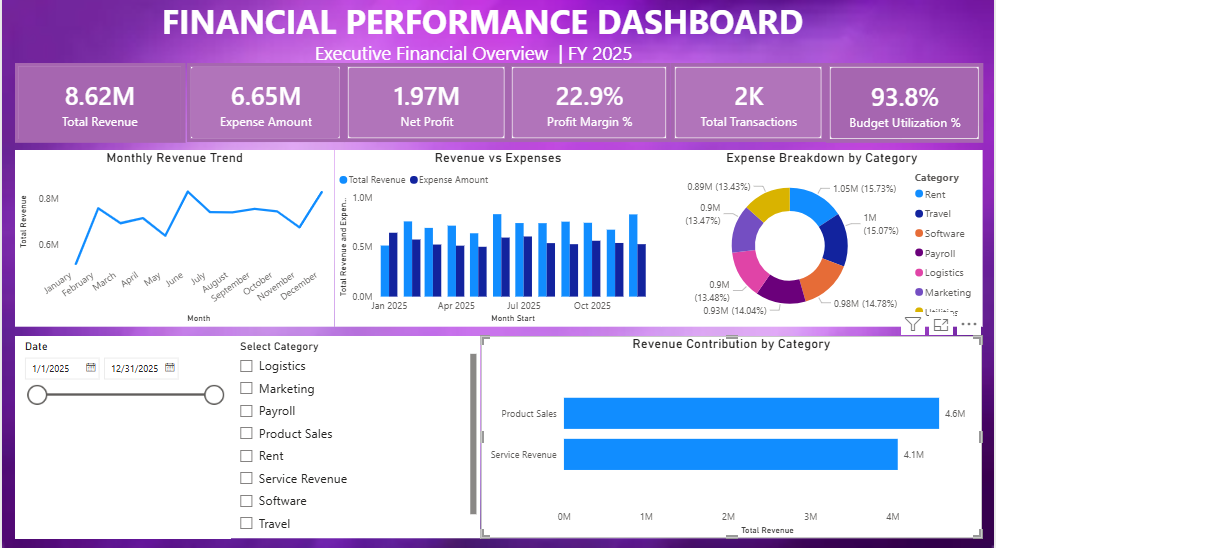

The page's visual inventory and layout, read from the dashboard file:
{"tool":"powerbi","page":{"name":"Page 1","canvas":[1280,720],"ordinal":0},"visuals":[{"type":"textbox","box":[198.2,0,839.9,73.9],"z":0},{"type":"cardVisual","fields":{"Data":["Category_Map.Total Revenue"]},"box":[17,89.3,219.7,103.5],"z":1000},{"type":"cardVisual","fields":{"Data":["Transactions.Expense Amount"]},"box":[238.1,89.3,202.7,102],"z":2000},{"type":"cardVisual","fields":{"Data":["Category_Map.Net Profit"]},"box":[440.8,89.3,212.6,102],"z":3000},{"type":"cardVisual","fields":{"Data":["Transactions.Profit Margin %"]},"box":[653.4,89.3,209.8,102],"z":4000},{"type":"cardVisual","fields":{"Data":["Category_Map.Total Transactions"]},"box":[863.1,89.3,199.8,102],"z":5000},{"type":"cardVisual","fields":{"Data":["Transactions.Revenue Budget Variance %"]},"box":[1063,89.3,202.7,103.5],"z":6000},{"type":"lineChart","title":"Monthly Revenue Trend","fields":{"Y":["Category_Map.Total Revenue"],"Category":["Calendar.Date.Variation.Date Hierarchy.Month"]},"box":[17,201.3,412.4,228.2],"z":7000},{"type":"clusteredColumnChart","title":"Revenue vs Expenses","fields":{"Y":["Category_Map.Total Revenue","Transactions.Expense Amount"],"Category":["Calendar.Month Start"]},"box":[429.4,201.3,420.9,228.2],"z":8000},{"type":"donutChart","title":"Expense Breakdown by Category","fields":{"Category":["Transactions.Category"],"Y":["Transactions.Expense Amount"]},"box":[850.4,201.3,415.3,228.2],"z":9000},{"type":"clusteredBarChart","title":"Revenue Contribution by Category","fields":{"Category":["Transactions.Category"],"Y":["Category_Map.Total Revenue"]},"box":[618,440.8,646.3,260.8],"z":10000},{"type":"slicer","fields":{"Values":["Calendar.Date"]},"box":[17,440.8,277.8,260.8],"z":11000},{"type":"textbox","box":[177.5,53.8,860.5,69.9],"z":12000},{"type":"slicer","fields":{"Values":["Transactions.Category"]},"box":[294.8,440.8,323.1,260.8],"z":13000}]}

Visuals, with their boxes in screenshot pixels (x1, y1, x2, y2):
textbox: Rect(154, 0, 809, 48)
cardVisual - Category_Map.Total Revenue: Rect(13, 60, 184, 141)
cardVisual - Transactions.Expense Amount: Rect(185, 60, 343, 139)
cardVisual - Category_Map.Net Profit: Rect(343, 60, 509, 139)
cardVisual - Transactions.Profit Margin %: Rect(509, 60, 672, 139)
cardVisual - Category_Map.Total Transactions: Rect(672, 60, 828, 139)
cardVisual - Transactions.Revenue Budget Variance %: Rect(828, 60, 986, 141)
"Monthly Revenue Trend" lineChart: Rect(13, 147, 335, 325)
"Revenue vs Expenses" clusteredColumnChart: Rect(335, 147, 662, 325)
"Expense Breakdown by Category" donutChart: Rect(663, 147, 986, 325)
"Revenue Contribution by Category" clusteredBarChart: Rect(481, 334, 985, 537)
slicer - Calendar.Date: Rect(13, 334, 230, 537)
textbox: Rect(138, 32, 809, 87)
slicer - Transactions.Category: Rect(230, 334, 481, 537)
